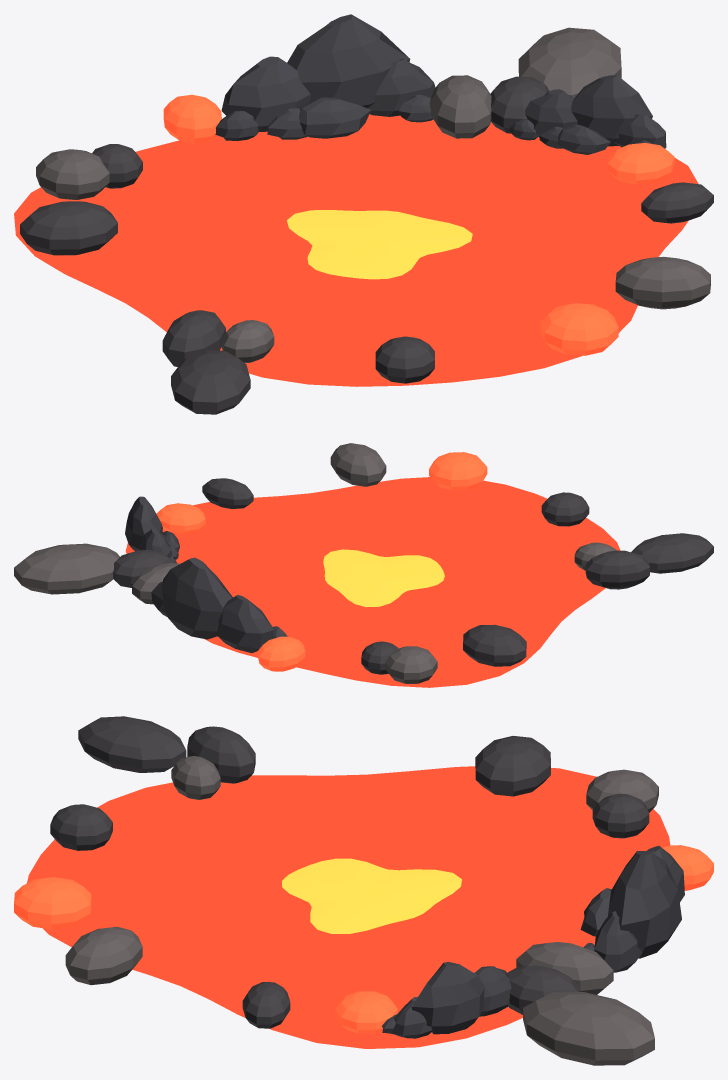
File: lava.glb
3 views of the same model, one above another, from view 1: azimuth 30°, elevation 25°; view 2: azimuth 150°, elevation 25°; view 3: azimuth 270°, elevation 25° (orthographic). The views are drawn at different scales.
Parts seen in each view (by area): view 1: lavaSurface_pool, shoreRock304.001, lavaSurface_core, shoreRock282.001, lavaRock_00, lavaCrust_07, lavaCrust_14, lavaRock_01, lavaCrust_12, lavaCrust_02, lavaCrust_06, lavaCrust_09 (+7 smaller); view 2: lavaSurface_pool, shoreRock304.001, lavaSurface_core, lavaRock_00, lavaRock_01, lavaCrust_07, lavaCrust_09, shoreRock282.001, lavaCrust_14, lavaCrust_12, lavaCrust_06, lavaCrust_04 (+7 smaller); view 3: lavaSurface_pool, lavaSurface_core, shoreRock304.001, lavaRock_00, shoreRock282.001, lavaRock_01, lavaCrust_07, lavaCrust_14, lavaCrust_12, lavaCrust_02, lavaCrust_09, lavaCrust_11 (+7 smaller).
Part boxes in pixels (x1,y1,x2,y2): lavaSurface_pool: (14, 114, 698, 386); shoreRock304.001: (215, 14, 435, 140); lavaSurface_core: (287, 210, 472, 279); shoreRock282.001: (509, 75, 666, 154); lavaRock_00: (518, 27, 621, 98); lavaCrust_07: (20, 201, 117, 255); lavaCrust_14: (615, 256, 710, 309); lavaRock_01: (171, 350, 250, 414); lavaCrust_12: (540, 303, 618, 355); lavaCrust_02: (429, 75, 491, 138); lavaCrust_06: (36, 149, 109, 199); lavaCrust_09: (162, 310, 225, 366); lavaSurface_pool: (125, 477, 620, 687); shoreRock304.001: (151, 557, 287, 652); lavaSurface_core: (323, 549, 444, 607); lavaRock_00: (14, 543, 119, 594); lavaRock_01: (631, 533, 713, 573); lavaCrust_07: (463, 624, 526, 666); lavaCrust_09: (585, 550, 649, 589); shoreRock282.001: (125, 496, 179, 563); lavaCrust_14: (330, 443, 386, 486); lavaCrust_12: (429, 452, 487, 490); lavaCrust_06: (385, 646, 437, 683); lavaCrust_04: (258, 636, 305, 671); lavaSurface_pool: (27, 766, 670, 1048); lavaSurface_core: (282, 858, 461, 933); shoreRock304.001: (580, 846, 684, 972); lavaRock_00: (523, 992, 654, 1065); shoreRock282.001: (381, 962, 511, 1038); lavaRock_01: (78, 716, 186, 772); lavaCrust_07: (475, 736, 550, 796); lavaCrust_14: (65, 926, 142, 985); lavaCrust_12: (14, 877, 91, 929); lavaCrust_02: (516, 942, 613, 994); lavaCrust_09: (187, 726, 255, 783); lavaCrust_11: (50, 804, 112, 850).
Bounding box in the file's own units: 9.28 × 1.38 × 8.26.
